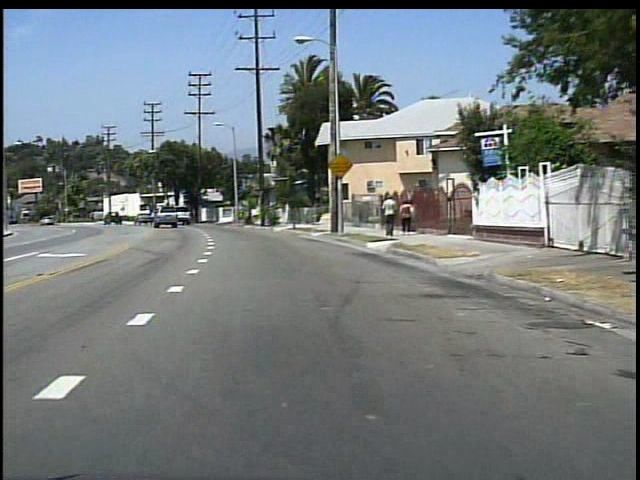person: (378, 191, 397, 238), (395, 198, 414, 235)
